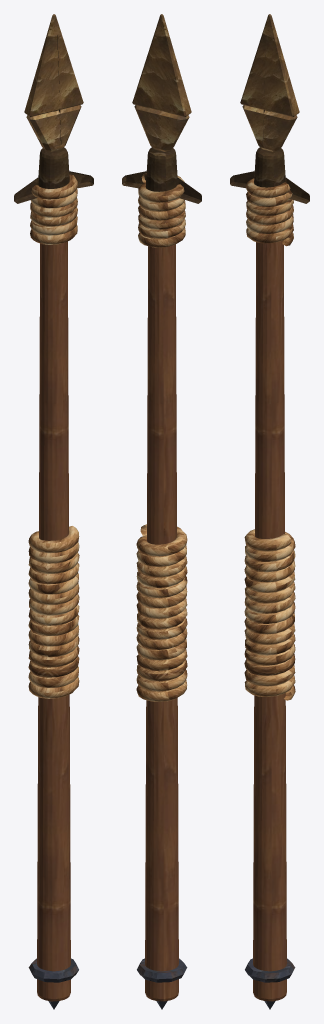
Rendered from spear_bronze.glb.
The picture shows the model from 3 angles, left to right: view 1: azimuth 30°, elevation 25°; view 2: azimuth 150°, elevation 25°; view 3: azimuth 330°, elevation 25°; orthographic projection.
Parts seen in each view (by area): view 1: model; view 2: model; view 3: model.
Boxes of the visible parts, bbox=[...] form: model: bbox=[14, 14, 93, 1009]; model: bbox=[122, 14, 201, 1009]; model: bbox=[230, 14, 309, 1009].
Size of the model in its own units: 0.12 by 1.47 by 0.069.
8 materials, 8 textured.
